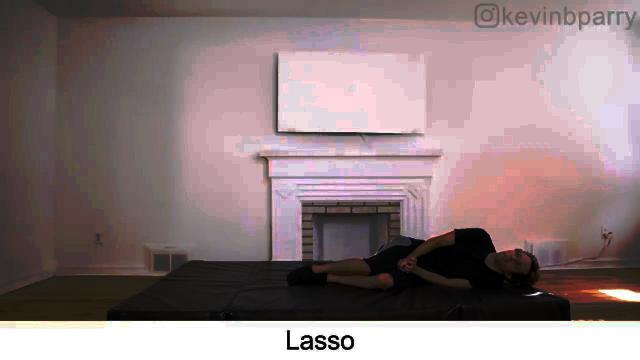jatuh: (282, 210, 548, 304)
